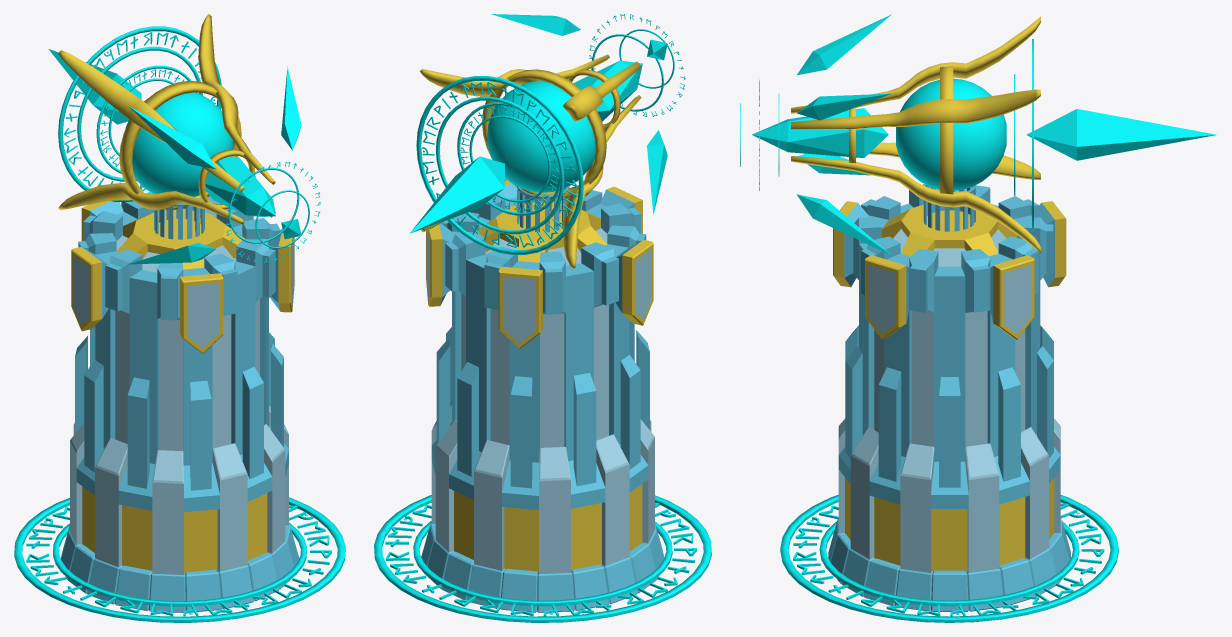
Rendered from MagicTower_3.fbx.
The picture shows the model from 3 angles, left to right: view 1: azimuth 30°, elevation 25°; view 2: azimuth 150°, elevation 25°; view 3: azimuth 270°, elevation 25°; orthographic projection. The views are drawn at different scales.
Visible parts, largest first — view 1: 3.Tower, 3.magic.canon, 3.base.magic.circle; view 2: 3.Tower, 3.magic.canon, 3.base.magic.circle; view 3: 3.Tower, 3.magic.canon, 3.base.magic.circle.
Part boxes in pixels (x1,y1,x2,y2): 3.Tower: (61,196,299,612); 3.magic.canon: (48,14,320,264); 3.base.magic.circle: (14,497,345,622); 3.Tower: (421,180,664,612); 3.magic.canon: (410,14,685,268); 3.base.magic.circle: (374,495,711,622); 3.Tower: (828,184,1070,611); 3.magic.canon: (740,14,1217,255); 3.base.magic.circle: (780,494,1118,622).
Bounding box in the file's own units: 183 × 306 × 258.
